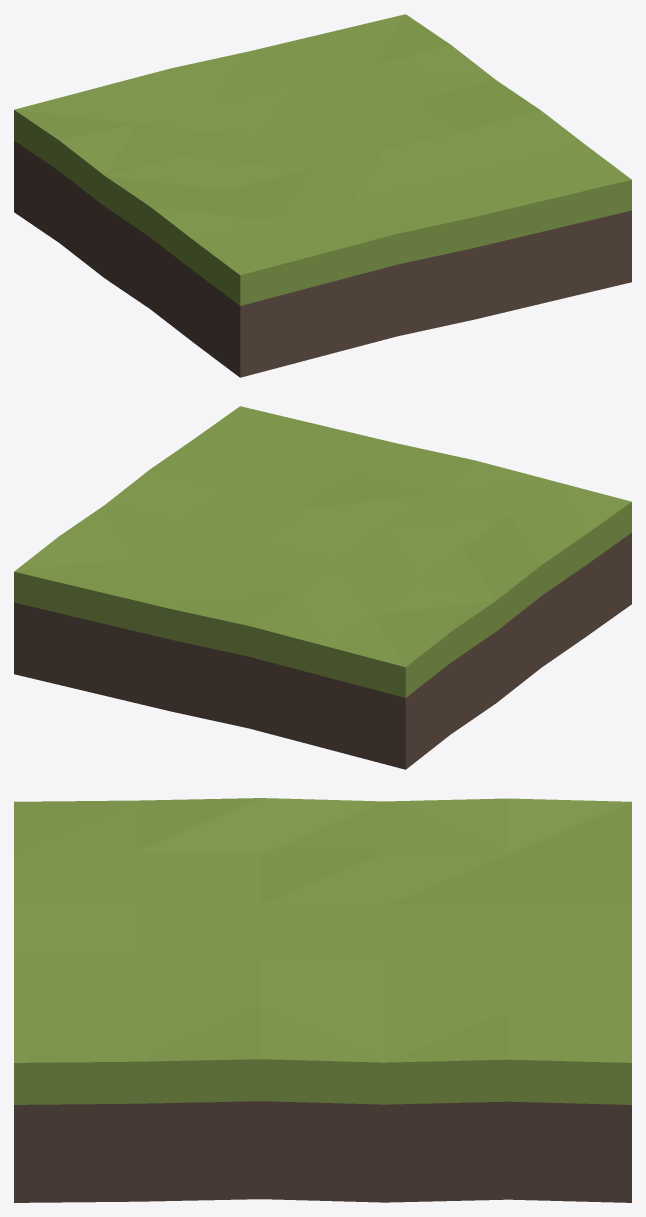
File: terrain-world-plain_01.fbx
3 views of the same model, one above another, from view 1: azimuth 30°, elevation 25°; view 2: azimuth 150°, elevation 25°; view 3: azimuth 270°, elevation 25° (orthographic). The views are drawn at different scales.
Visible parts, largest first — view 1: terrain-world-plain_01; view 2: terrain-world-plain_01; view 3: terrain-world-plain_01.
Part boxes in pixels (x1,y1,x2,y2): terrain-world-plain_01: (14, 14, 631, 377); terrain-world-plain_01: (14, 406, 631, 769); terrain-world-plain_01: (14, 798, 631, 1202).
Size of the model in its own units: 2000 by 515 by 2000.
